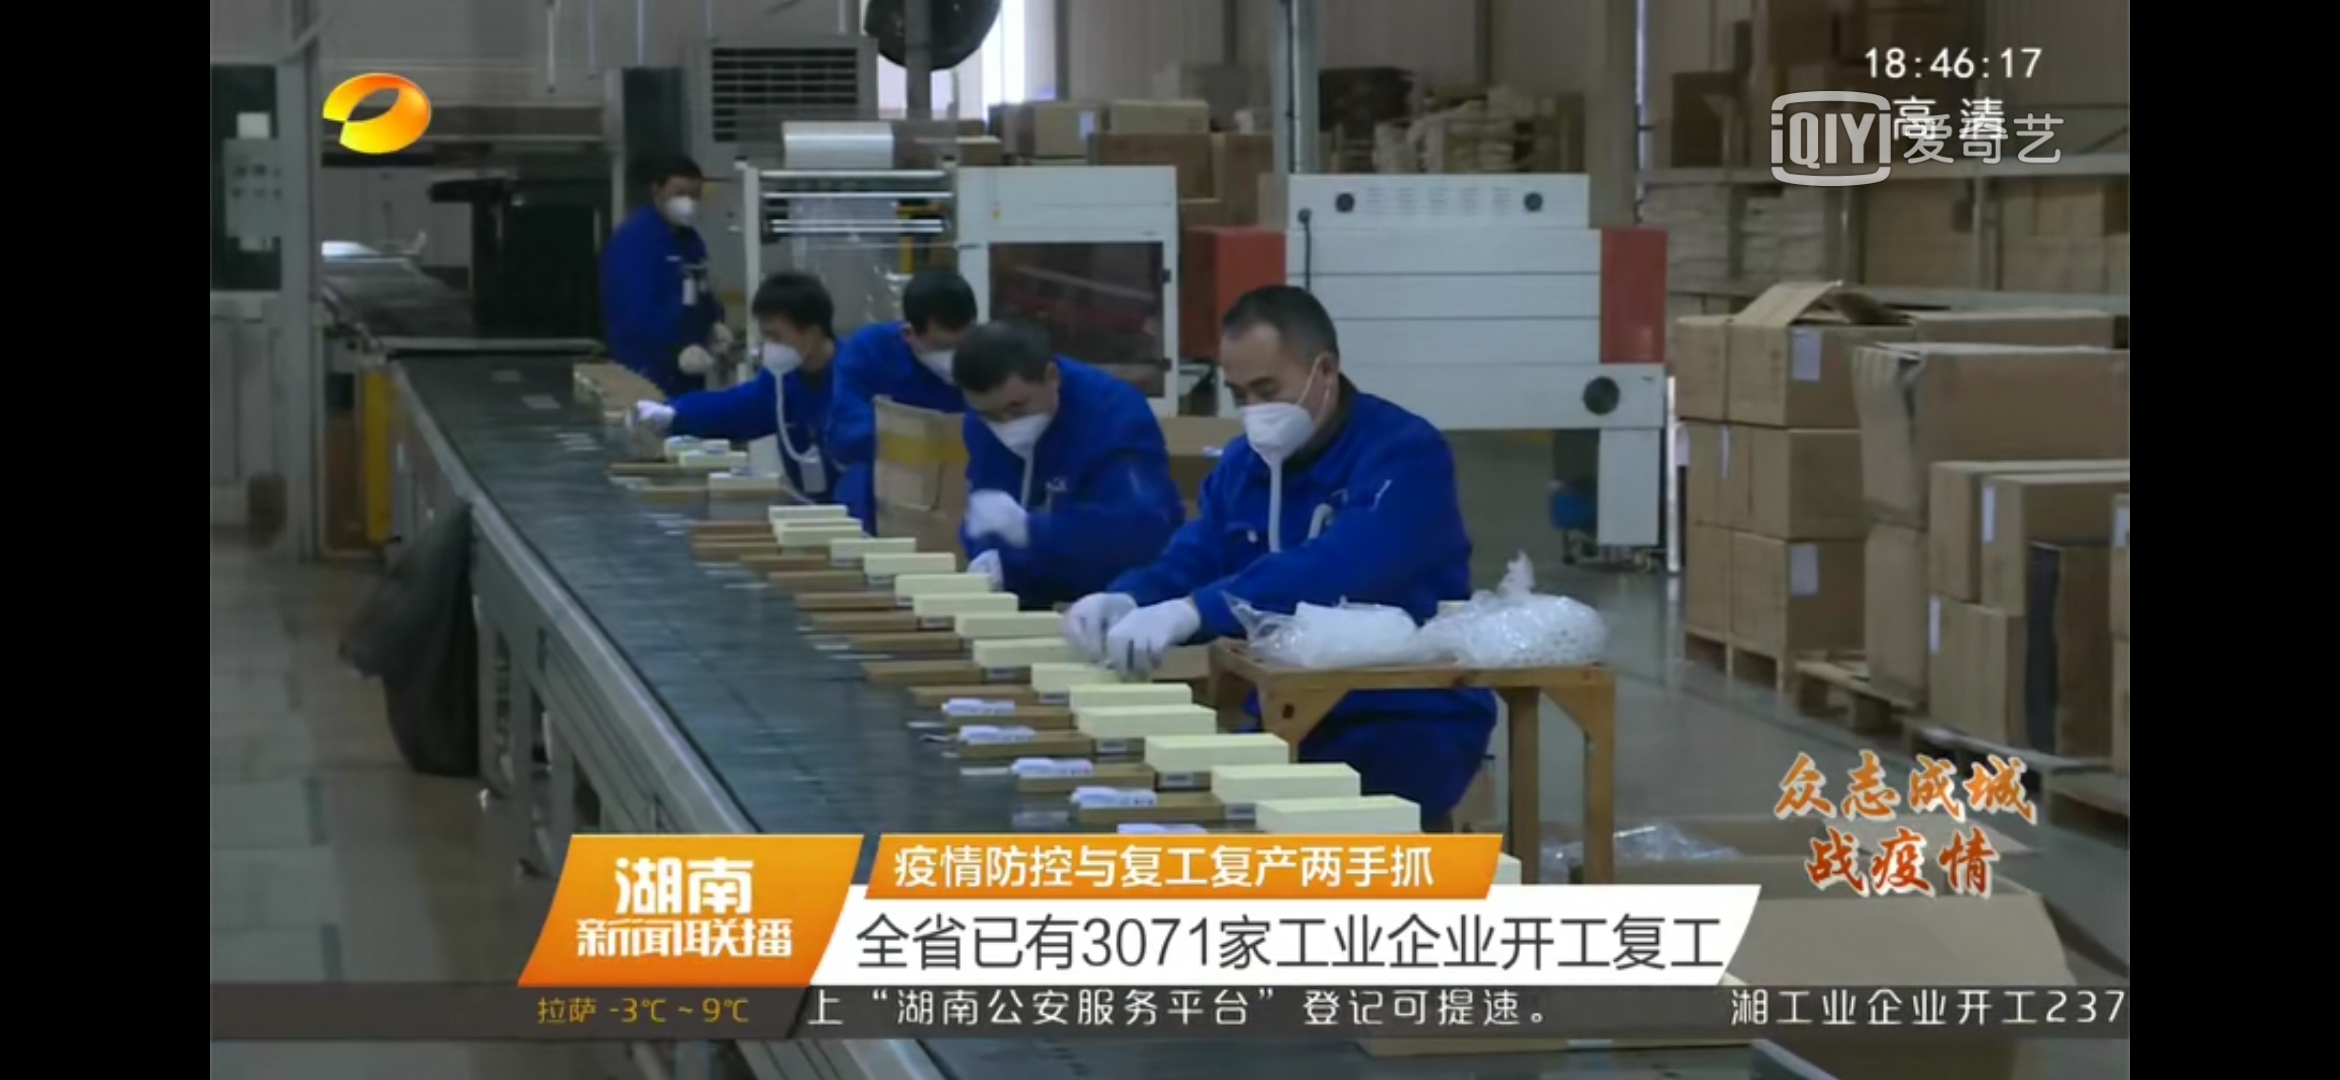correctlyWear: (1224, 333, 1345, 465), (967, 377, 1060, 458), (749, 307, 836, 383), (898, 310, 972, 383), (657, 175, 701, 231)
